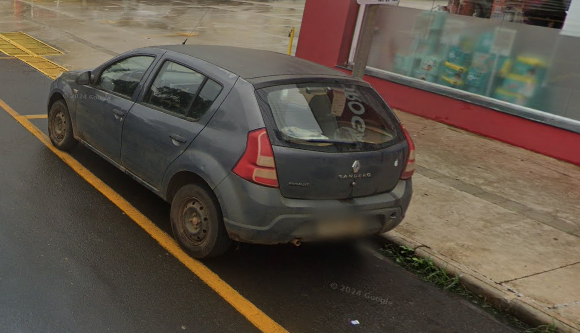car: (42, 7, 417, 263)
